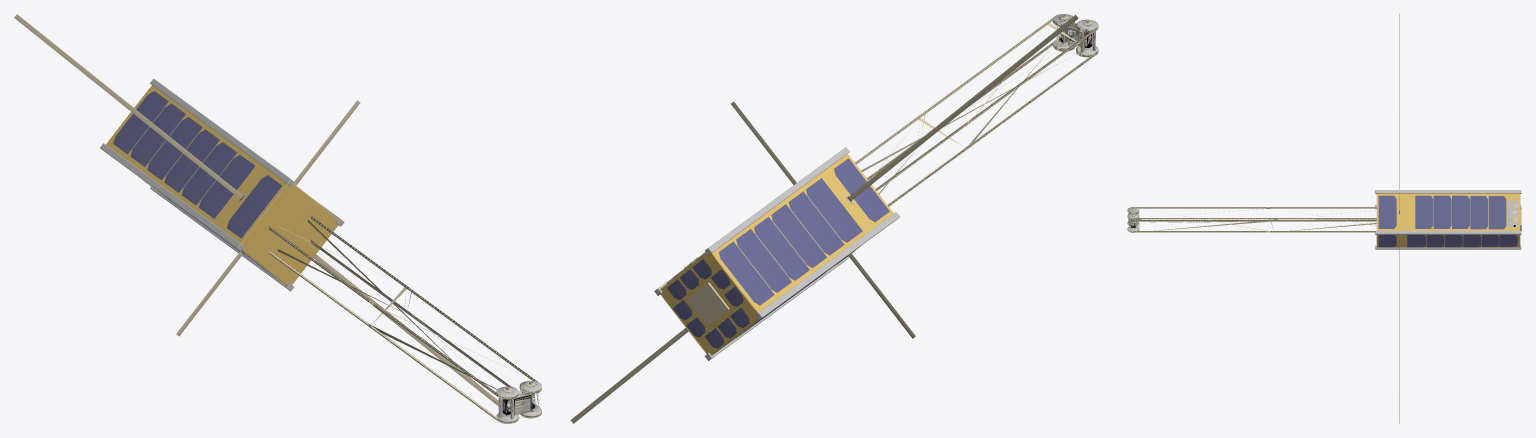
Rendered from Firefly.glb.
3 renders of one model, left to right at view 1: azimuth 30°, elevation 25°; view 2: azimuth 150°, elevation 25°; view 3: azimuth 270°, elevation 25°, orthographic. The views are drawn at different scales.
Parts seen in each view (by area): view 1: imagetostl_mesh0; view 2: imagetostl_mesh0; view 3: imagetostl_mesh0.
Boxes of the visible parts, left/top/right/bottom form: imagetostl_mesh0: left=14, top=14, right=541, bottom=423; imagetostl_mesh0: left=570, top=14, right=1098, bottom=423; imagetostl_mesh0: left=1127, top=14, right=1521, bottom=423.
Bounding box in the file's own units: 13.91 × 13.91 × 17.7.
